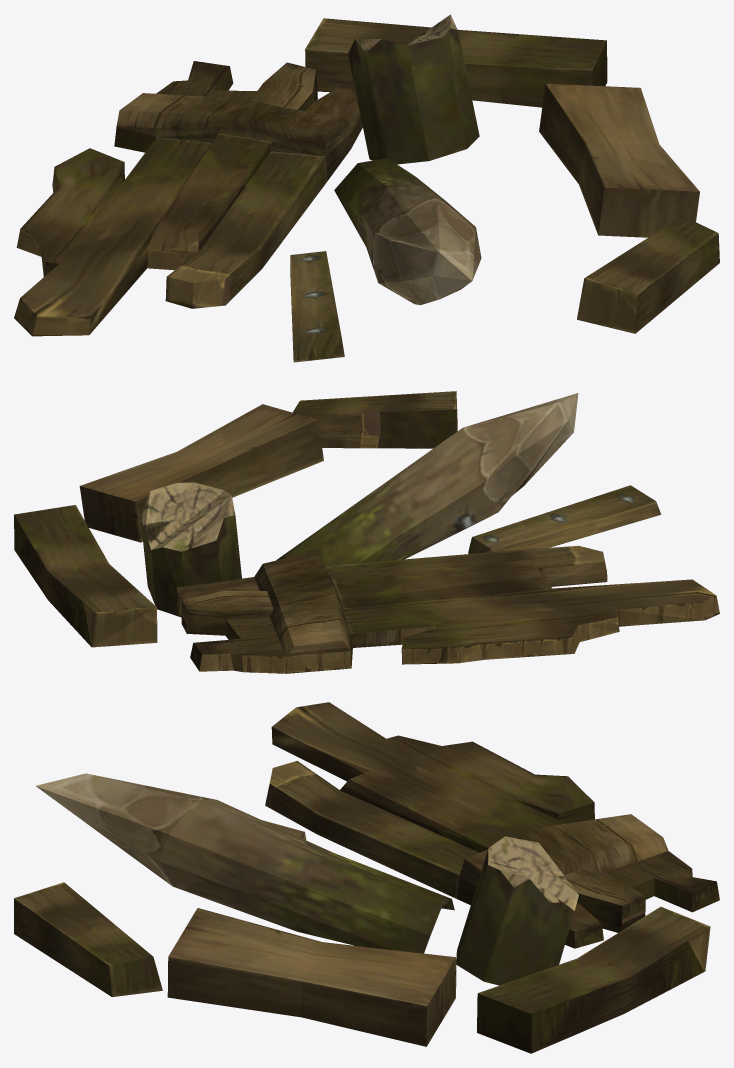
The model's file is barricade_03_destroyed.fbx.
3 views of the same model, one above another, from view 1: azimuth 30°, elevation 25°; view 2: azimuth 150°, elevation 25°; view 3: azimuth 270°, elevation 25° (orthographic). The views are drawn at different scales.
Parts seen in each view (by area): view 1: obj2.021; view 2: obj2.021; view 3: obj2.021.
Boxes of the visible parts, x1=… form: obj2.021: x1=14, y1=14, x2=719, y2=362; obj2.021: x1=14, y1=391, x2=719, y2=673; obj2.021: x1=14, y1=702, x2=719, y2=1053.
Bounding box in the file's own units: 3.39 × 0.6207 × 3.12.
